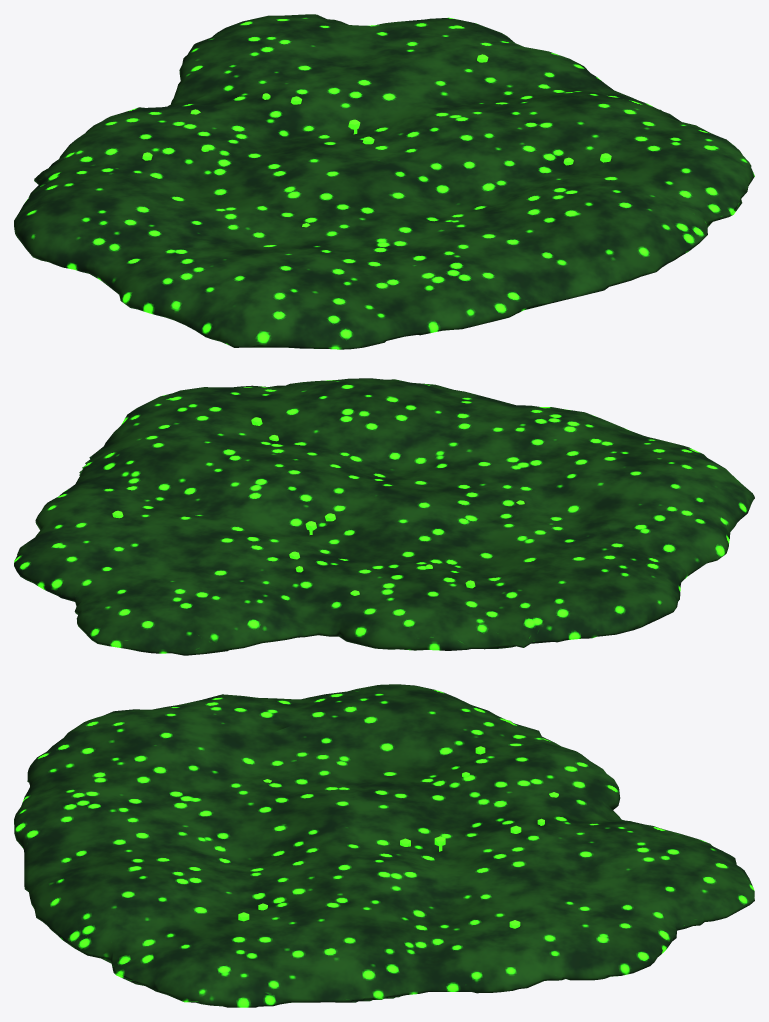
File: musgo_luminoso.fbx
3 views of the same model, one above another, from view 1: azimuth 30°, elevation 25°; view 2: azimuth 150°, elevation 25°; view 3: azimuth 270°, elevation 25° (orthographic). The views are drawn at different scales.
Visible parts, largest first — view 1: musgo, brotes_neon; view 2: musgo, brotes_neon; view 3: musgo, brotes_neon.
Part boxes in pixels (box(x1,y1,x2,y2)): musgo: box(14, 14, 754, 349); brotes_neon: box(142, 54, 611, 227); musgo: box(14, 378, 754, 655); brotes_neon: box(112, 417, 524, 595); musgo: box(14, 684, 754, 1007); brotes_neon: box(238, 746, 558, 928).
Bounding box in the file's own units: 4 × 0.202 × 3.99.
Materials: 1 (1 with a texture image).
